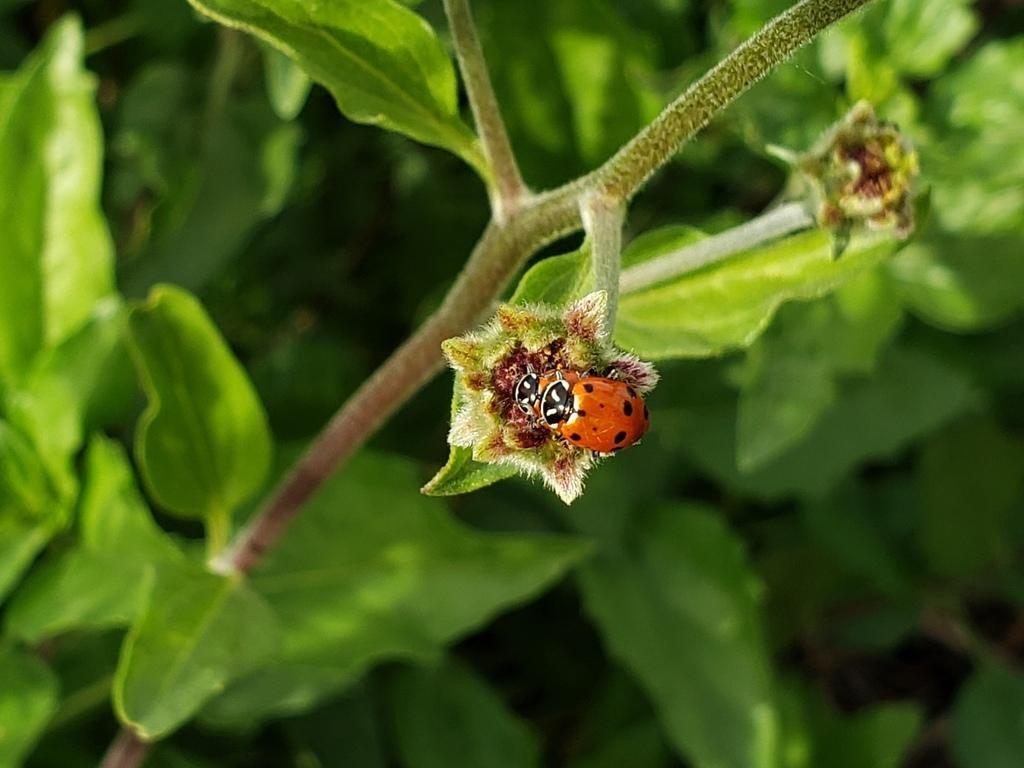ladybug: (536, 369, 654, 463), (513, 363, 593, 435)
